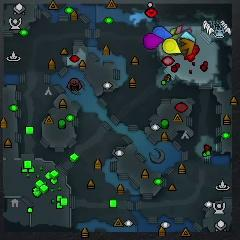p1: (153, 26, 173, 39)
p3: (143, 33, 164, 50)
p4: (162, 38, 182, 55)
x1: (176, 26, 192, 35)
x2: (169, 27, 185, 41)
x3: (181, 31, 196, 42)
x5: (178, 38, 195, 55)
